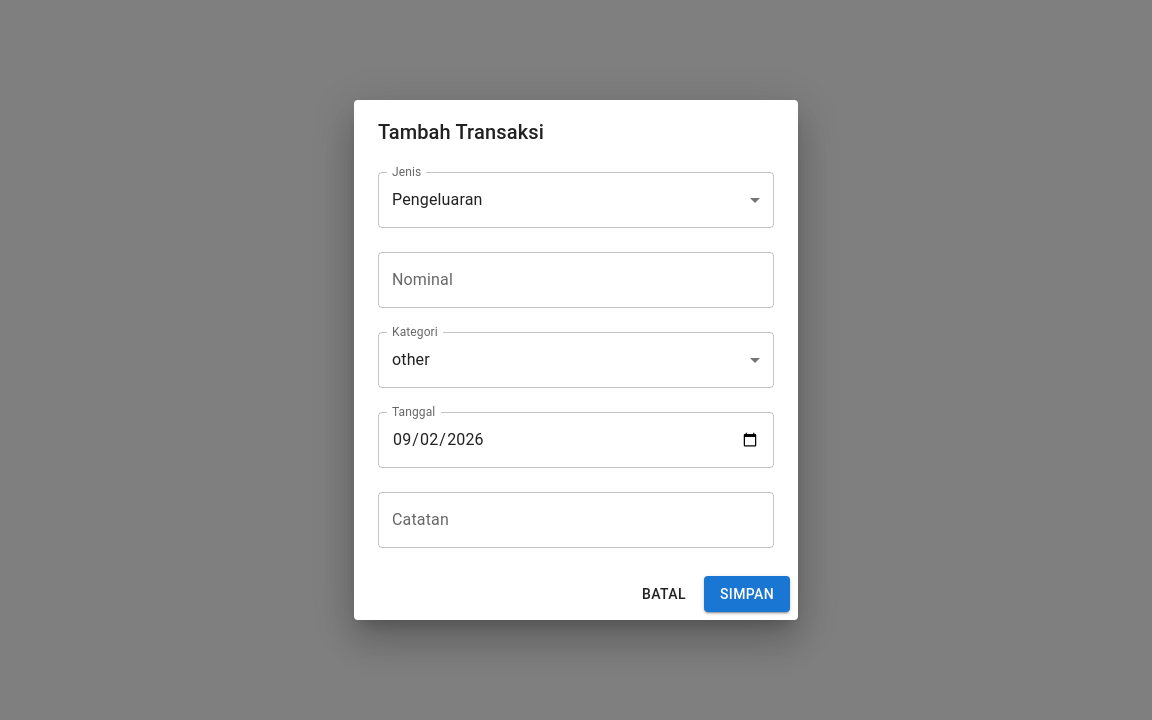
Test: TransactionDialog validation › keeps the dialog open and reports invalid amount, date, or note
This screenshot has width=1152, height=720.
Click the button "Simpan". click: click(747, 594)
box: top-left (704, 576), bottom-right (790, 612)
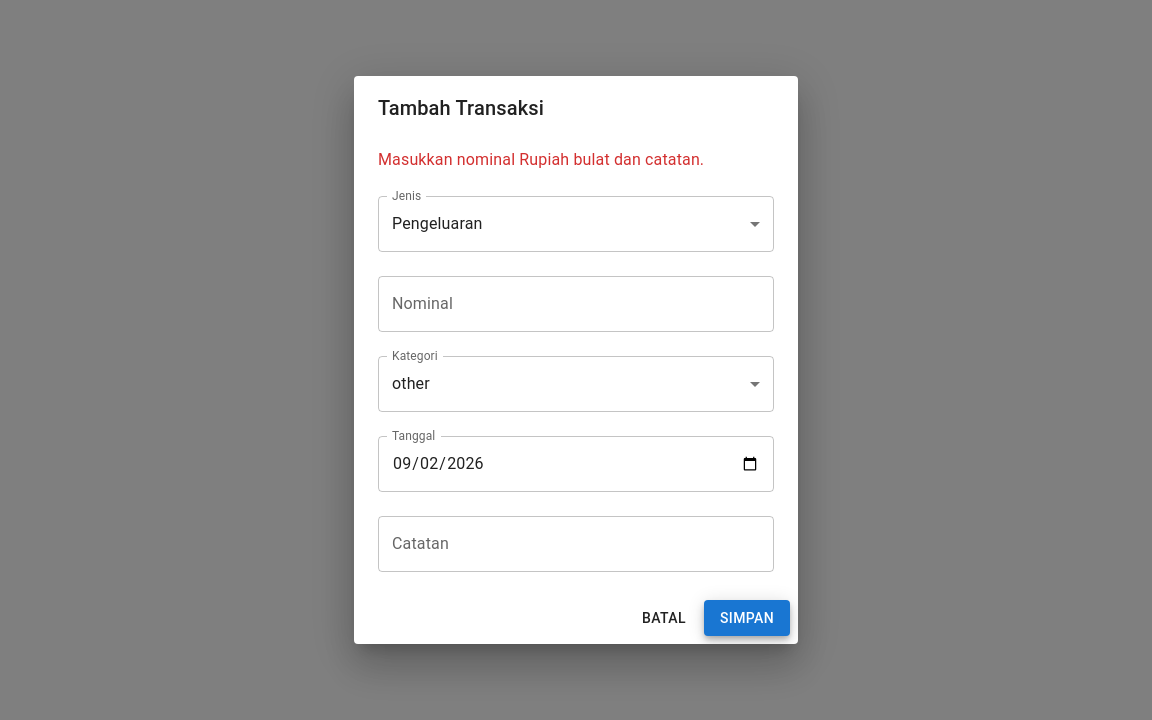
Type "100000" into the number field labelled "Nominal". click: (576, 304)
box: top-left (378, 276), bottom-right (774, 332)
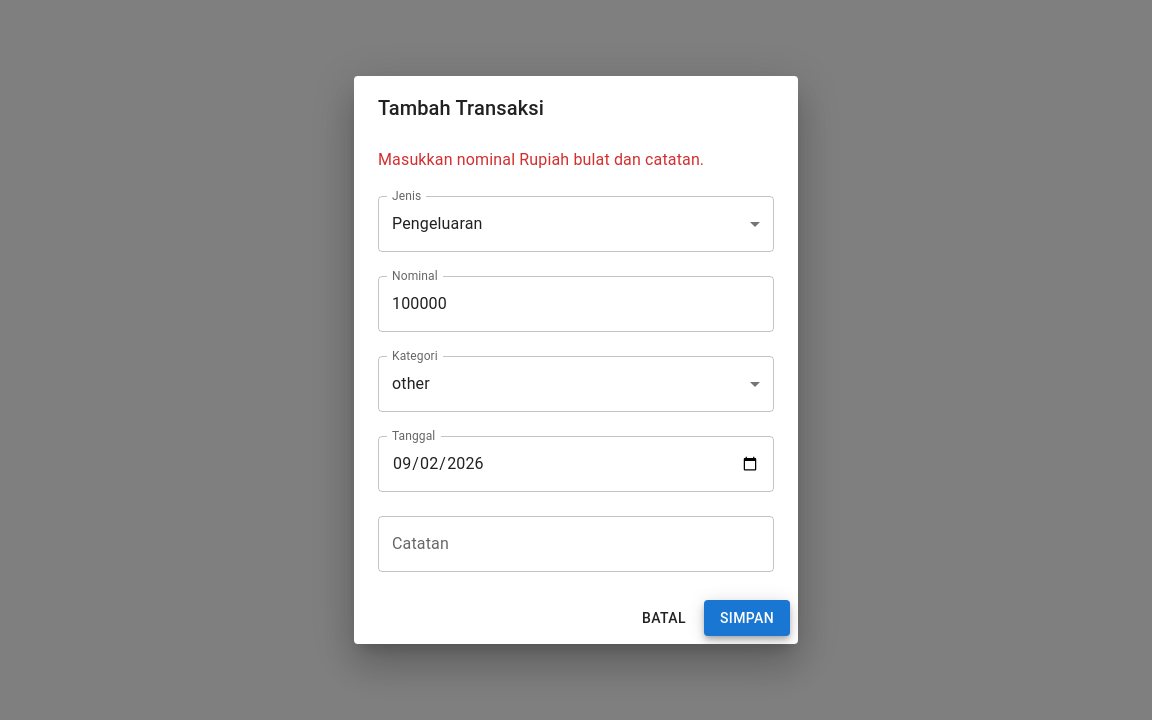
Type "2026-02-30" into the date field labelled "Tanggal". click: (576, 464)
box: top-left (378, 436), bottom-right (774, 492)
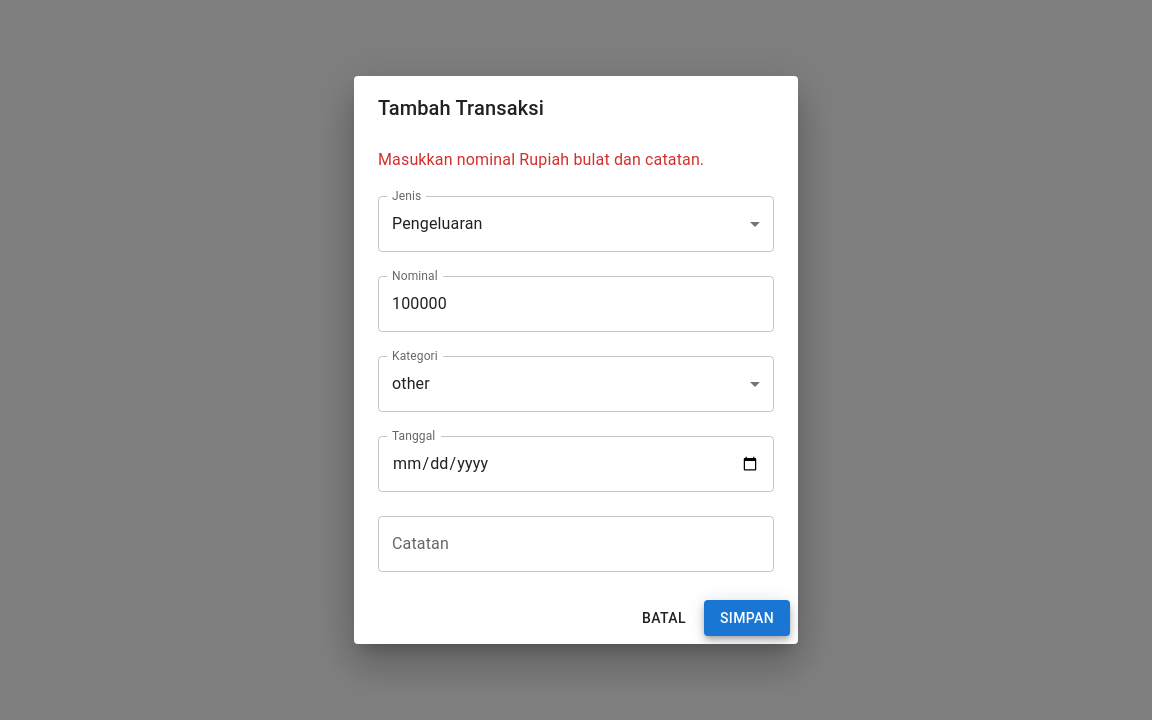
Type "Belanja" into the field labelled "Catatan". click: (576, 544)
box: top-left (378, 516), bottom-right (774, 572)
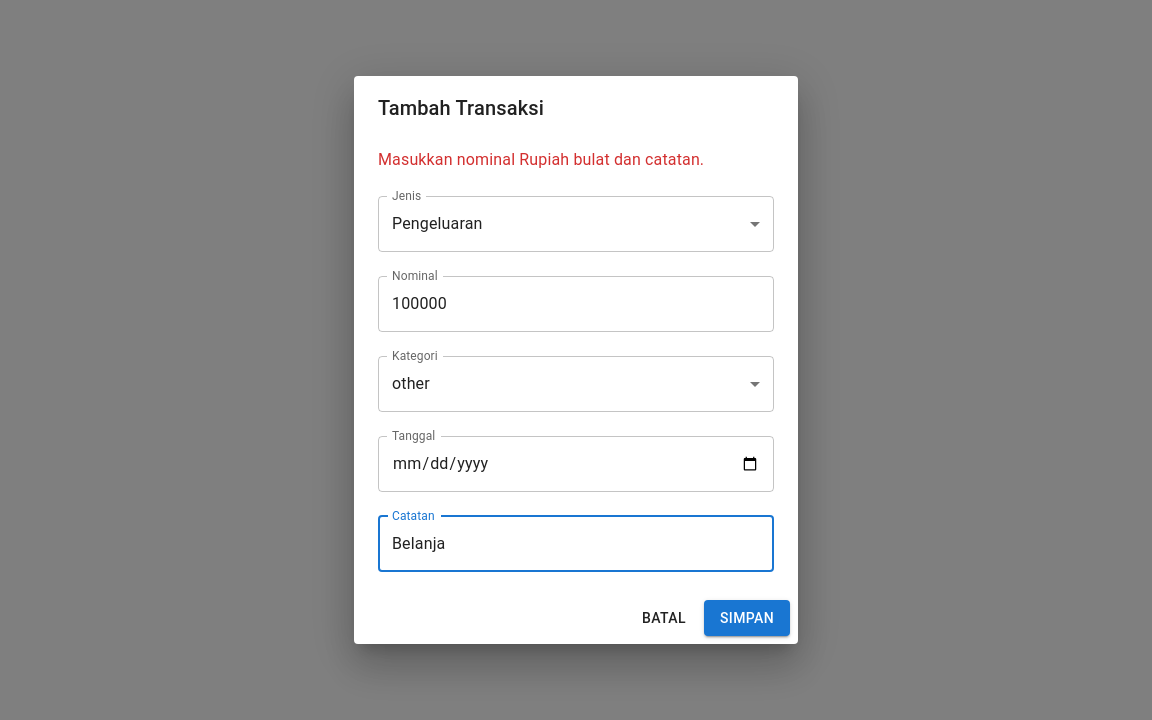
Click the button "Simpan". click: click(747, 618)
box: top-left (704, 600), bottom-right (790, 636)
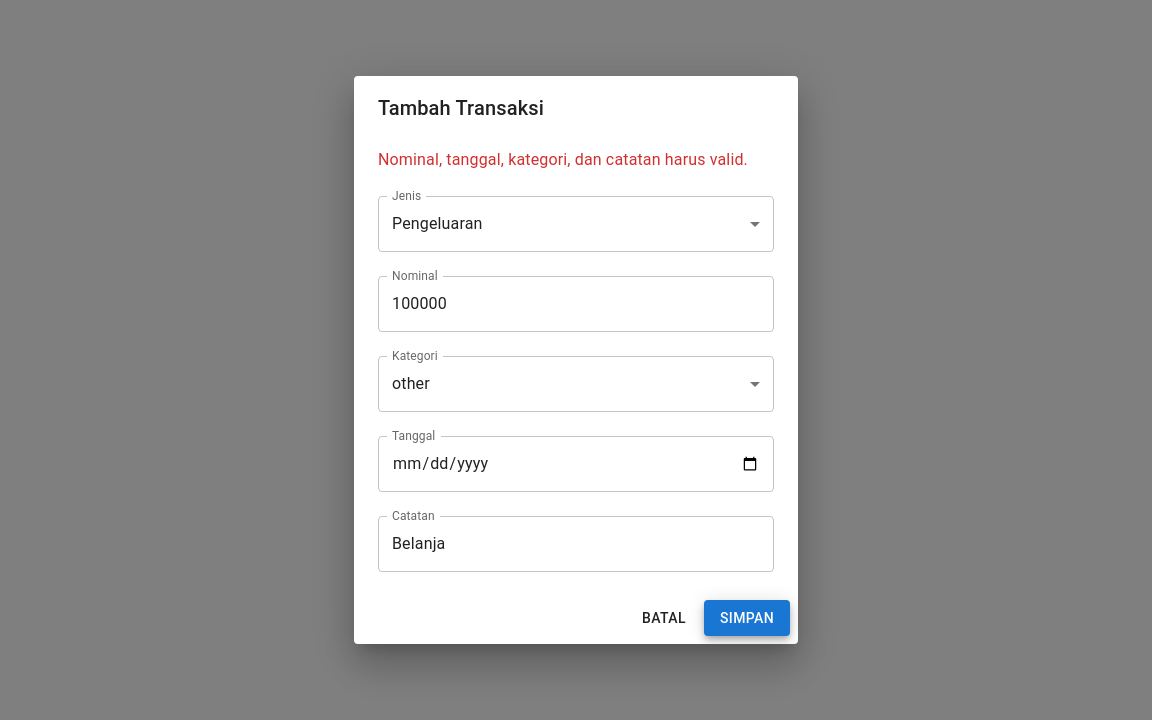
Expected: the text "Nominal, tanggal, kategori, dan catatan harus valid." is shown, top-left (378, 148), bottom-right (774, 172)
